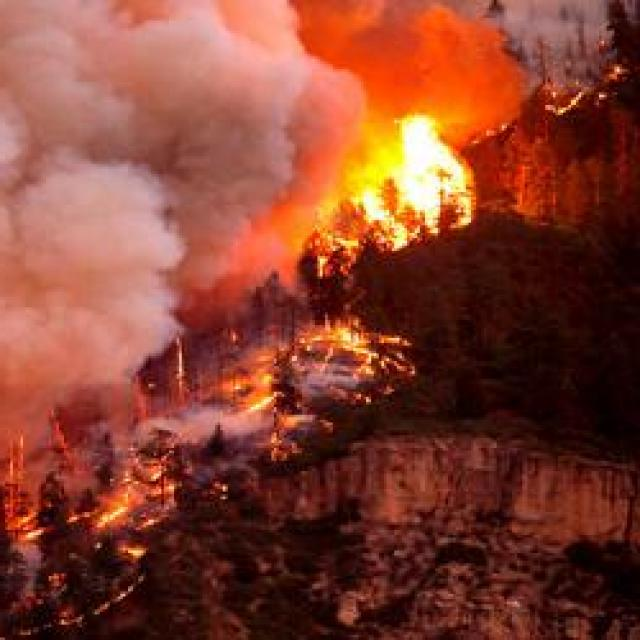fire: (393, 114, 449, 235), (351, 183, 388, 231)
smoke: (0, 156, 190, 391), (160, 8, 302, 288), (316, 25, 498, 117)
